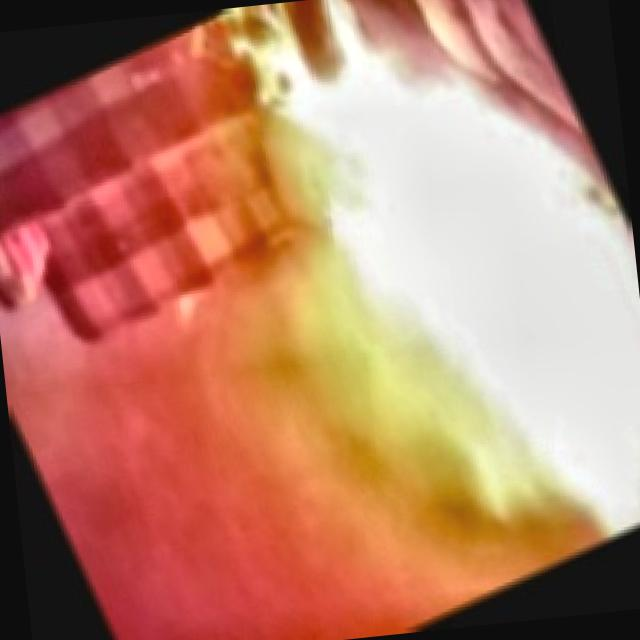fire: (195, 0, 640, 631)
